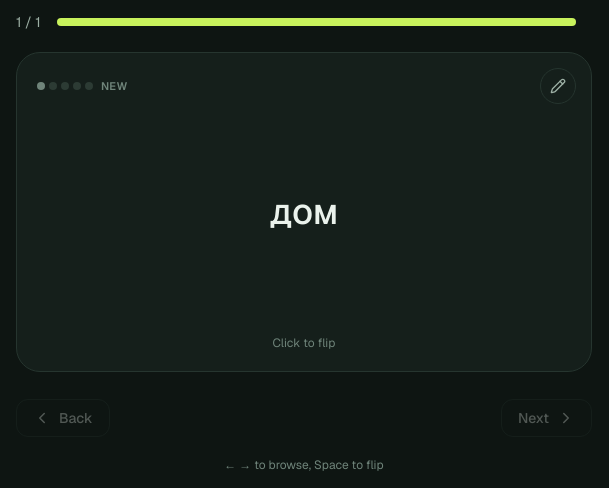
it: FlipCards: listening › RU → DE: not before the card is flipped (it would give the answer away)
The image size is (609, 488).
Click the button "new дом Click to flip the house — дом" at (304, 212), box [16, 52, 592, 372]
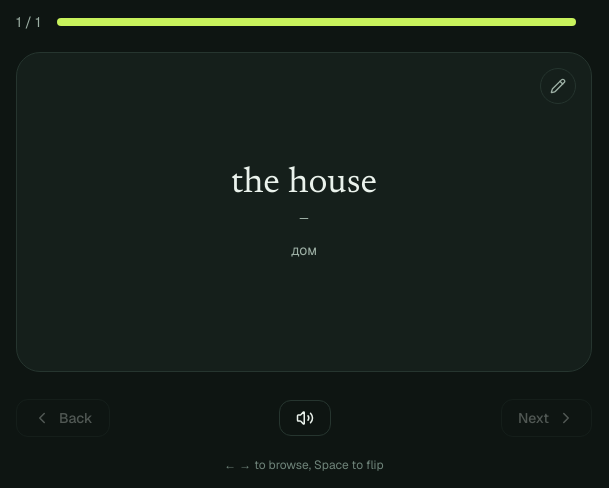
Now the button named "Listen" is shown, box [279, 400, 331, 436]
